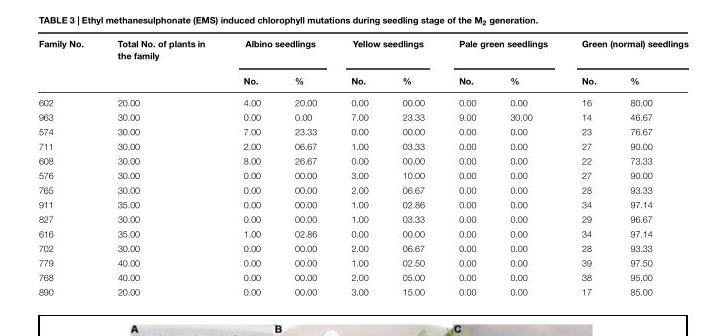table: (37, 37, 687, 296)
table column: (99, 37, 223, 296), (612, 37, 687, 296), (492, 37, 563, 296), (37, 37, 99, 296), (384, 37, 441, 296), (277, 37, 333, 296), (223, 37, 277, 296), (333, 37, 384, 296), (441, 37, 492, 296), (563, 37, 612, 296)
table column header: (37, 37, 687, 90)
table row: (37, 37, 687, 67), (37, 67, 687, 90), (37, 90, 687, 109), (37, 123, 687, 138), (37, 152, 687, 167), (37, 181, 687, 196), (37, 196, 687, 211), (37, 225, 687, 240), (37, 254, 687, 269), (37, 109, 687, 123), (37, 138, 687, 152), (37, 167, 687, 181), (37, 211, 687, 225), (37, 240, 687, 254), (37, 269, 687, 283), (37, 283, 687, 296)
table spanning cell: (99, 37, 223, 90), (563, 37, 687, 67), (441, 37, 563, 67), (223, 37, 333, 67), (37, 37, 99, 90), (333, 37, 441, 67)
